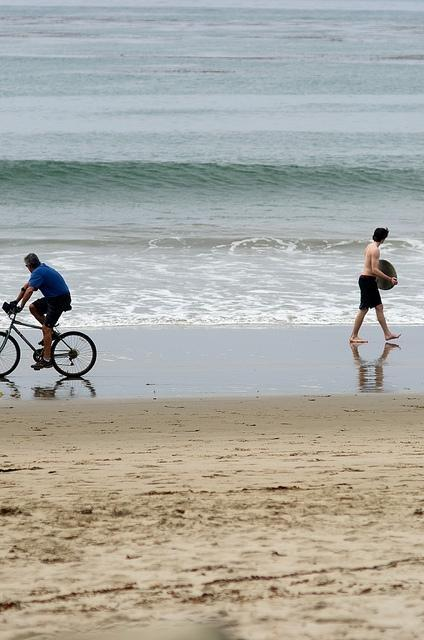bicycle: (0, 298, 95, 378)
